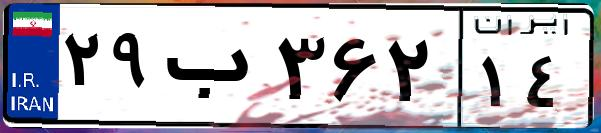1: (475, 38, 525, 113)
2: (385, 28, 445, 110), (57, 26, 110, 100)
3: (270, 28, 330, 110)
4: (525, 38, 570, 115)
6: (330, 28, 385, 110)
9: (110, 28, 158, 98)
ب: (158, 20, 270, 120)
